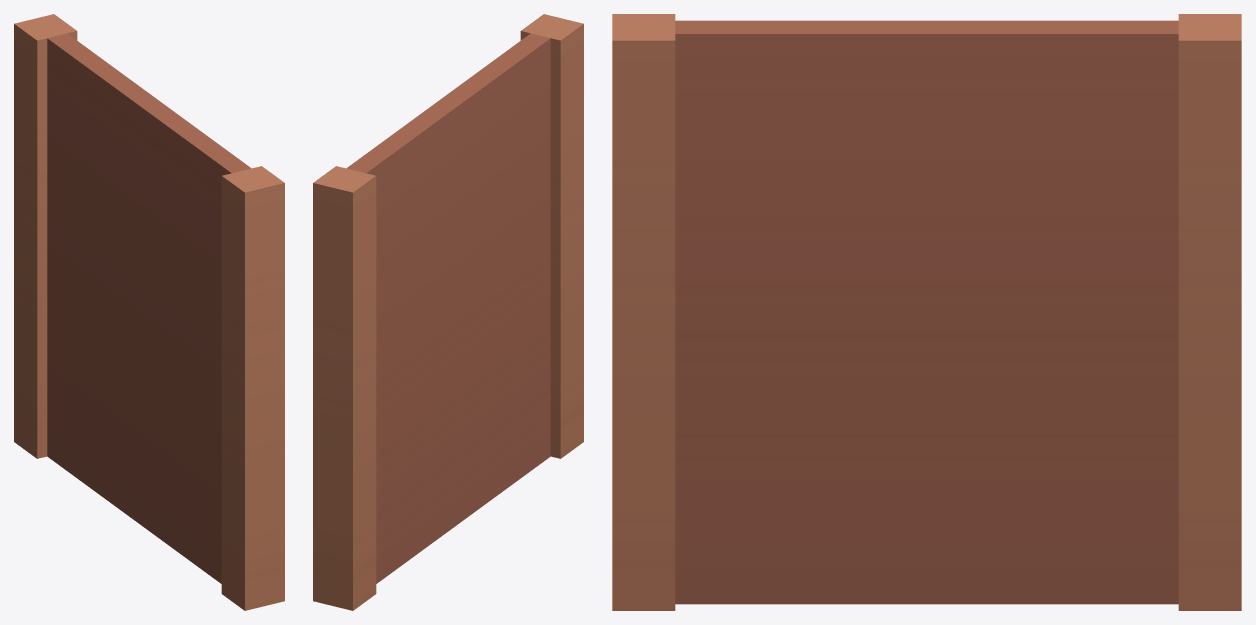
File: wall-wood.fbx
3 renders of one model, left to right at view 1: azimuth 30°, elevation 25°; view 2: azimuth 150°, elevation 25°; view 3: azimuth 270°, elevation 25°, orthographic. The views are drawn at different scales.
Parts seen in each view (by area): view 1: wall-wood; view 2: wall-wood; view 3: wall-wood.
Part boxes in pixels (<box>): wall-wood: <box>14,14,284,610</box>; wall-wood: <box>313,14,583,610</box>; wall-wood: <box>612,14,1241,610</box>.
Bounding box in the file's own units: 10 × 100 × 100.
Materials: 1 (1 with a texture image).
